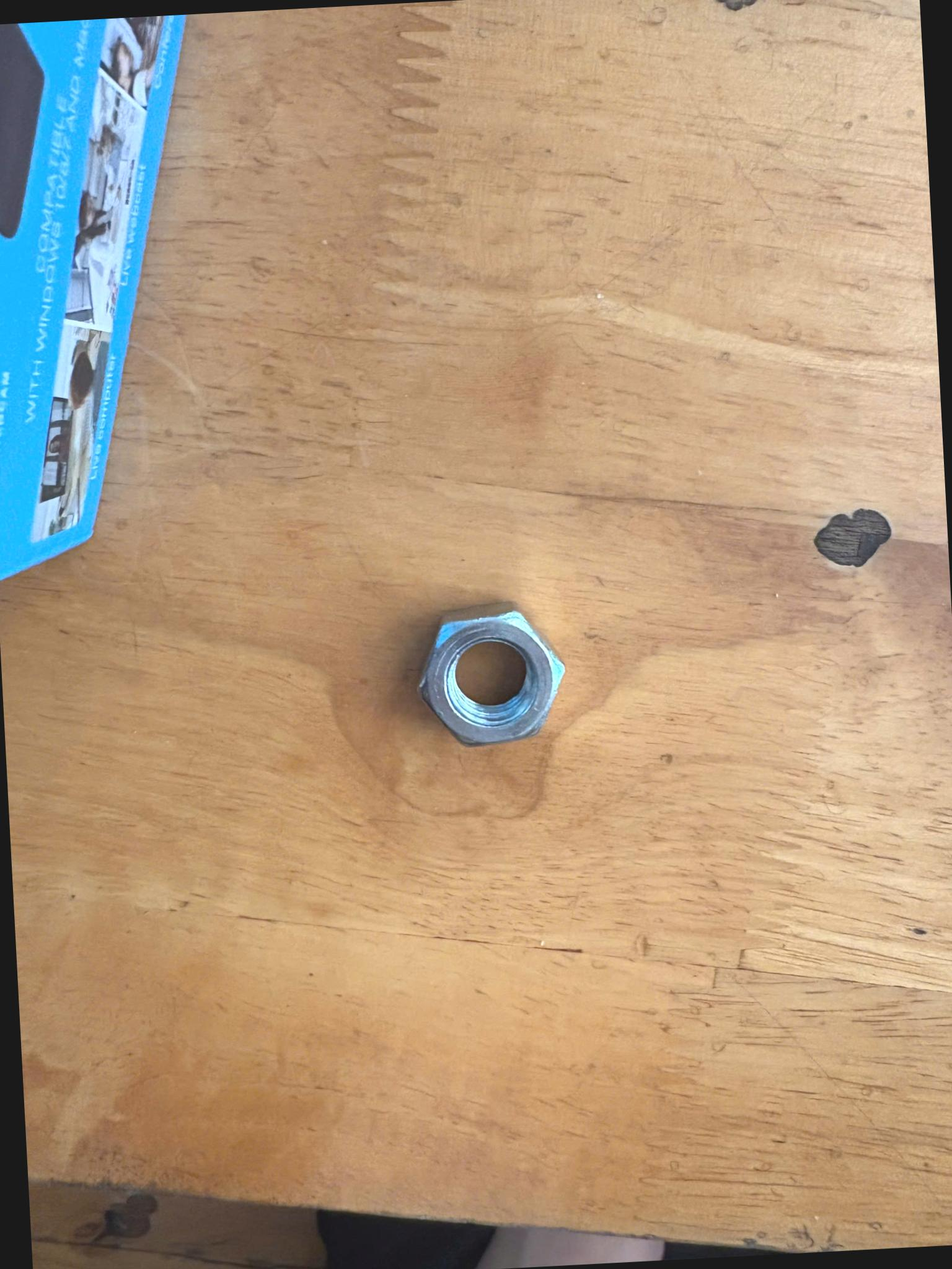nut: (391, 575, 584, 764)
